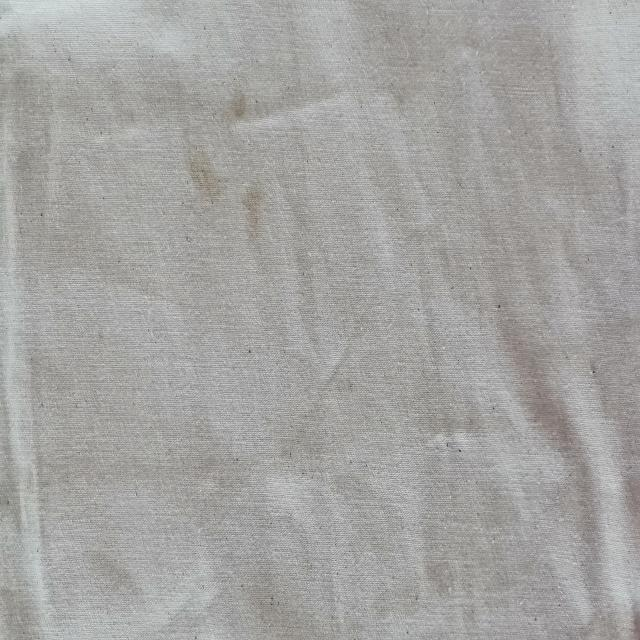taaaches: (185, 142, 221, 215), (238, 172, 268, 255), (230, 75, 252, 137)
